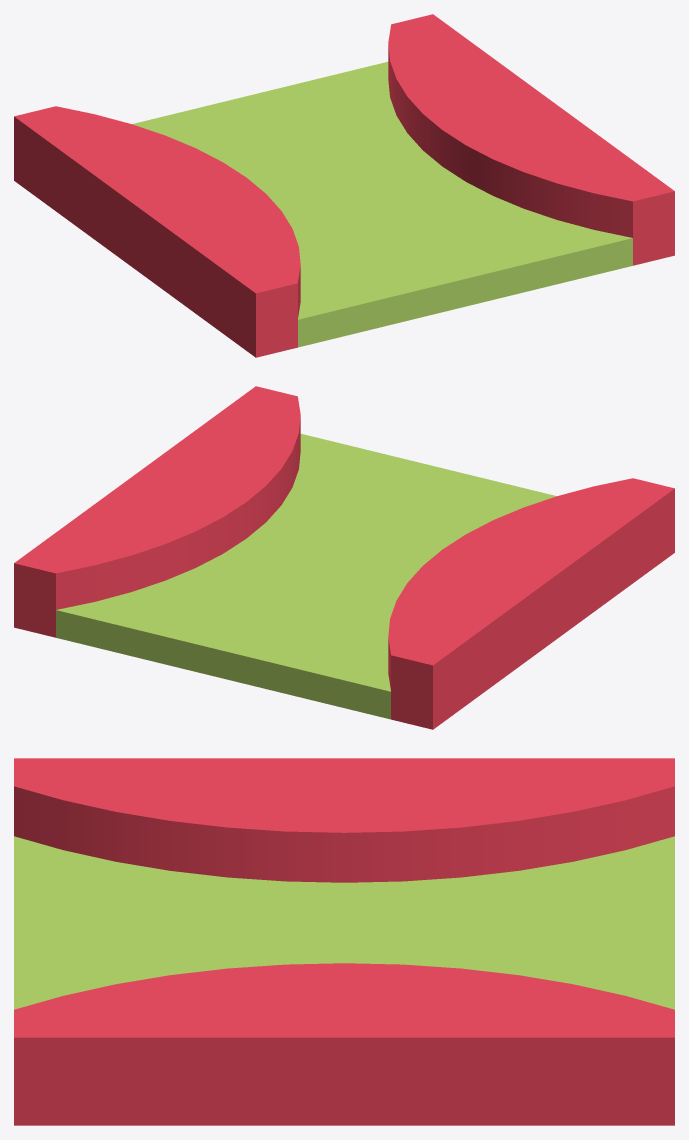
File: narrowRound.fbx
3 renders of one model, top to bottom at view 1: azimuth 30°, elevation 25°; view 2: azimuth 150°, elevation 25°; view 3: azimuth 270°, elevation 25°, orthographic. The views are drawn at different scales.
Parts seen in each view (by area): view 1: narrowRound; view 2: narrowRound; view 3: narrowRound.
Boxes of the visible parts, x1,y1,x2,y2 form: narrowRound: [14, 14, 674, 357]; narrowRound: [14, 386, 674, 729]; narrowRound: [14, 758, 674, 1125].
Size of the model in its own units: 10 by 1.47 by 10.
